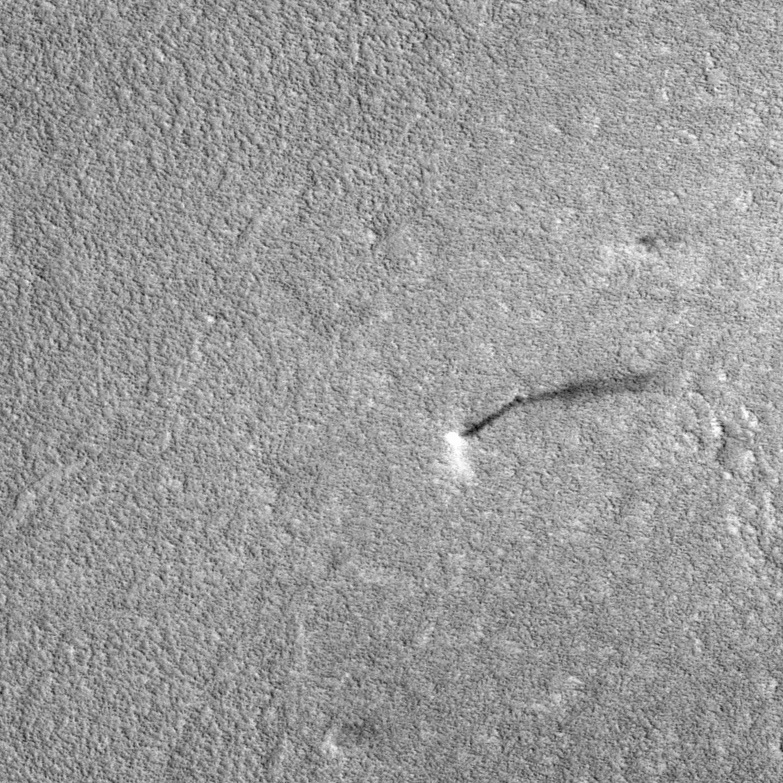dust_devil: (442, 367, 663, 477), (620, 230, 685, 258)
